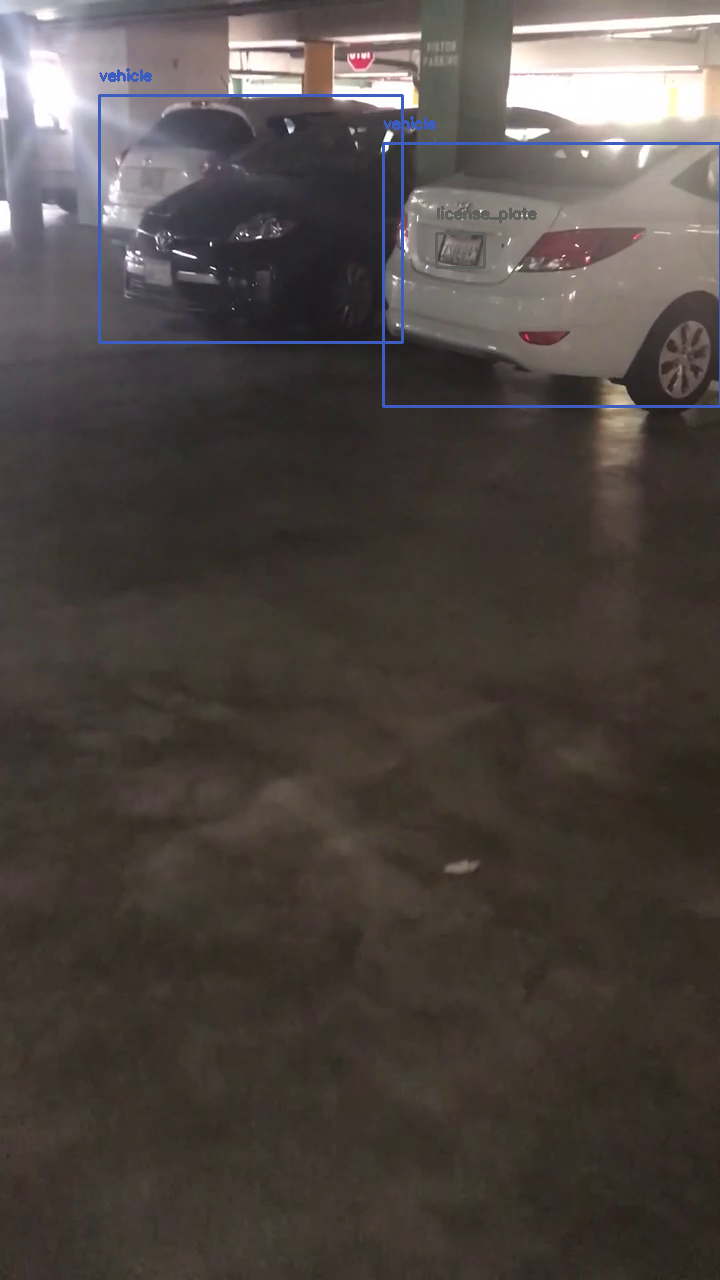license_plate: (436, 233, 484, 267)
vehicle: (383, 143, 720, 406), (99, 95, 402, 342)
